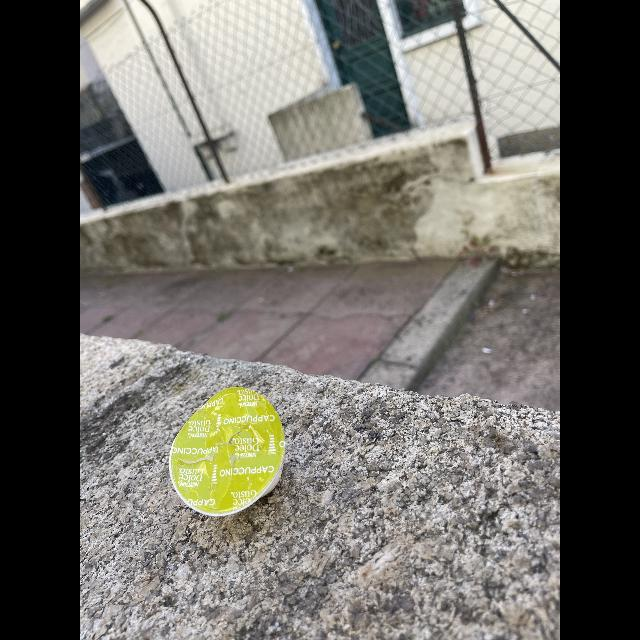damaged_capsule: (160, 382, 306, 528)
